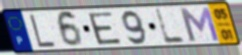6: (55, 9, 85, 50)
9: (120, 9, 149, 46)
E: (86, 11, 124, 46)
L: (154, 7, 188, 45), (28, 13, 59, 49)
M: (176, 6, 222, 43)
